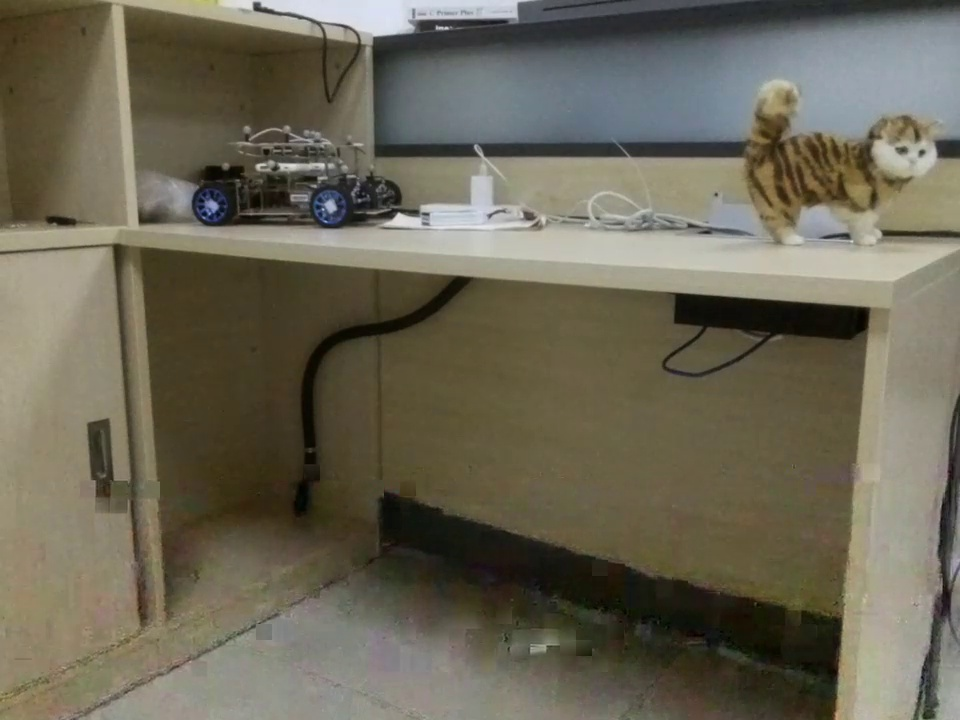cat: (721, 62, 946, 248)
